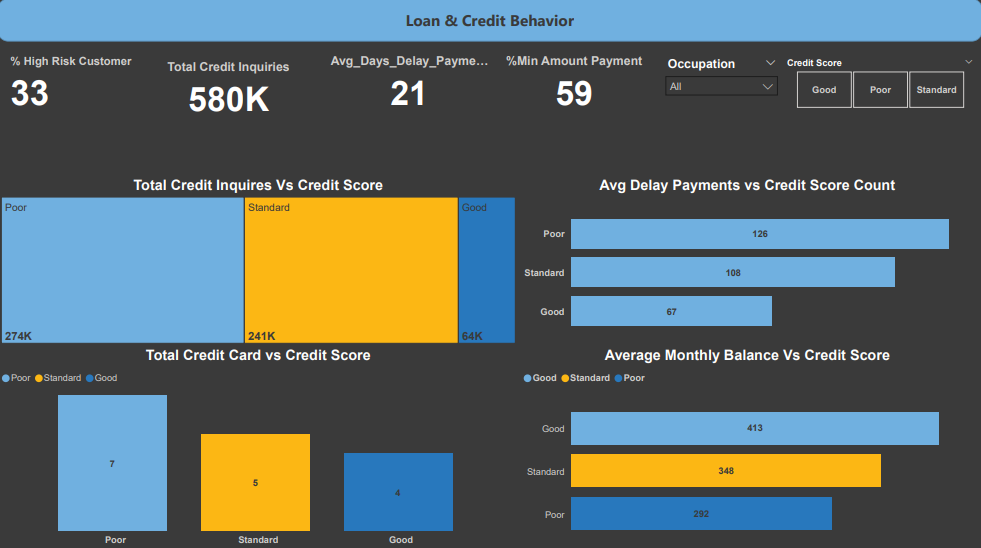

This screenshot's page, from the dashboard's own definition file:
{"tool":"powerbi","page":{"name":" Loan & Credit Behavior","canvas":[1280,720],"ordinal":1},"visuals":[{"type":"shape","box":[0,0,1279.7,56.3],"z":0},{"type":"cardVisual","fields":{"Data":["public customer_summary.Percentage of High Rist Customer - Poor Credit"]},"box":[0,56.3,200.5,106.8],"z":1000},{"type":"cardVisual","fields":{"Data":["public customer_summary.Avg_Days_Delay_Payment"]},"box":[414.1,56.3,242.4,106.8],"z":2000},{"type":"cardVisual","fields":{"Data":["public customer_summary.Percentage of Customer Paying Min Amount"]},"box":[640.6,56.3,217.9,106.8],"z":3000},{"type":"columnChart","title":"Total Credit Card vs Credit Score","fields":{"Category":["public creditscore_vs_nocreditcards.credit_score"],"Y":["Avg(public creditscore_vs_nocreditcards.num_credit_card)"],"Series":["public creditscore_vs_nocreditcards.credit_score"]},"box":[0,453,678.1,266.9],"z":4000},{"type":"barChart","title":"Average Monthly Balance Vs Credit Score ","fields":{"Y":["Avg(public avg_monthly_balance_vs_credit_score.avg_monthly_balance)"],"Category":["public avg_monthly_balance_vs_credit_score.credit_score"],"Series":["public avg_monthly_balance_vs_credit_score.credit_score"]},"box":[678.1,453,593,266.9],"z":5000},{"type":"barChart","title":"Avg Delay Payments vs Credit Score Count","fields":{"Category":["public creditscore_vs_delay_payment.credit_score"],"Y":["Avg(public creditscore_vs_delay_payment.avg_delay_payment)"]},"box":[678.1,232.3,593,220.7],"z":6000},{"type":"treemap","title":"Total Credit Inquires Vs Credit Score","fields":{"Group":["public total_credit_inquiries_vs_credit_score.credit_score"],"Values":["Sum(public total_credit_inquiries_vs_credit_score.total_credit_inquiries)"]},"box":[0,232.3,678.1,220.7],"z":7000},{"type":"cardVisual","fields":{"Data":["Sum(public customer_summary.num_credit_inquiries)"]},"box":[200.5,63.5,199.1,90.9],"z":8000},{"type":"slicer","fields":{"Values":["public annual_income_vs_credit_score.credit_score"]},"box":[1012.8,72.1,266.9,76.5],"z":9000},{"type":"slicer","fields":{"Values":["public customer_summary.occupation"]},"box":[858.4,70.7,165.9,63.5],"z":10000}]}

Visuals, with their boxes in screenshot pixels (x1, y1, x2, y2), scaled from the page's 1280x720 canvas onto the 981x548 screenshot:
shape: (x1=0, y1=0, x2=980, y2=43)
cardVisual - public customer_summary.Percentage of High Rist Customer - Poor Credit: (x1=0, y1=43, x2=154, y2=124)
cardVisual - public customer_summary.Avg_Days_Delay_Payment: (x1=317, y1=43, x2=503, y2=124)
cardVisual - public customer_summary.Percentage of Customer Paying Min Amount: (x1=491, y1=43, x2=658, y2=124)
"Total Credit Card vs Credit Score" columnChart: (x1=0, y1=345, x2=520, y2=547)
"Average Monthly Balance Vs Credit Score " barChart: (x1=520, y1=345, x2=974, y2=547)
"Avg Delay Payments vs Credit Score Count" barChart: (x1=520, y1=177, x2=974, y2=345)
"Total Credit Inquires Vs Credit Score" treemap: (x1=0, y1=177, x2=520, y2=345)
cardVisual - Sum(public customer_summary.num_credit_inquiries): (x1=154, y1=48, x2=306, y2=118)
slicer - public annual_income_vs_credit_score.credit_score: (x1=776, y1=55, x2=980, y2=113)
slicer - public customer_summary.occupation: (x1=658, y1=54, x2=785, y2=102)
